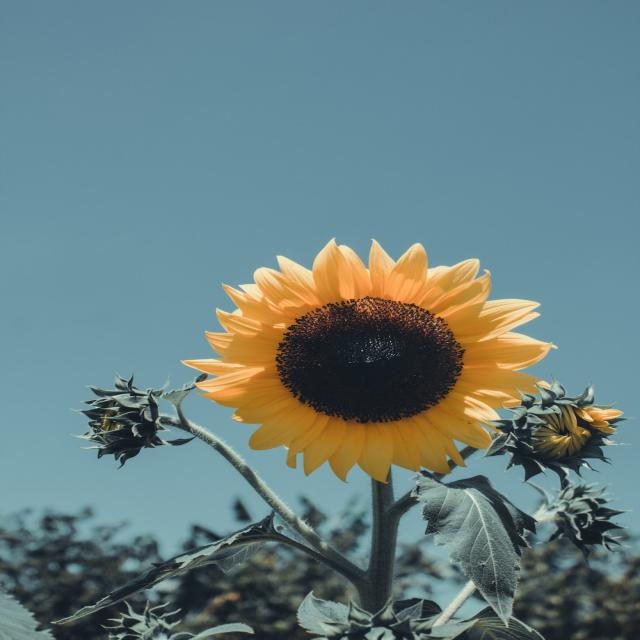sunflower: (169, 233, 561, 491), (487, 376, 632, 485), (77, 372, 180, 469)
